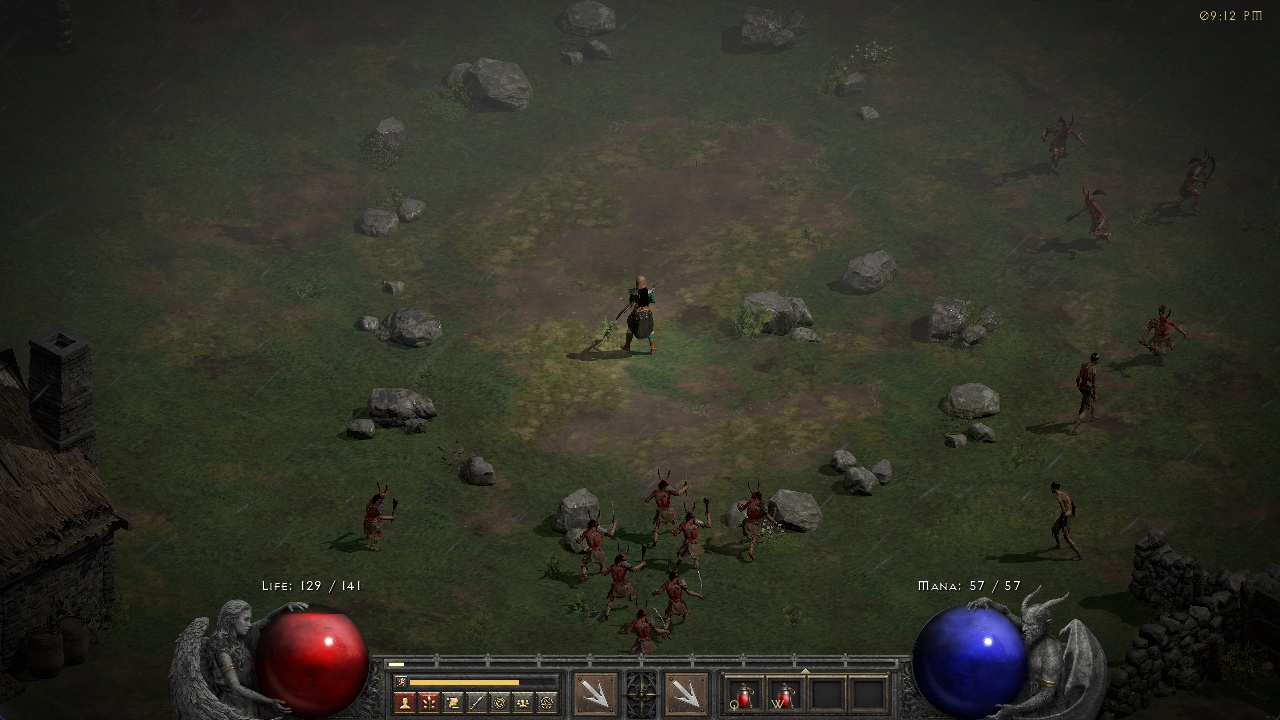fallen: (1168, 145, 1225, 214), (1035, 111, 1089, 178), (736, 477, 777, 564), (1135, 304, 1194, 364), (1067, 186, 1119, 247), (655, 566, 709, 619), (579, 501, 619, 569), (623, 611, 678, 659), (676, 496, 715, 559), (643, 470, 684, 528), (608, 545, 645, 606), (363, 481, 398, 545)
